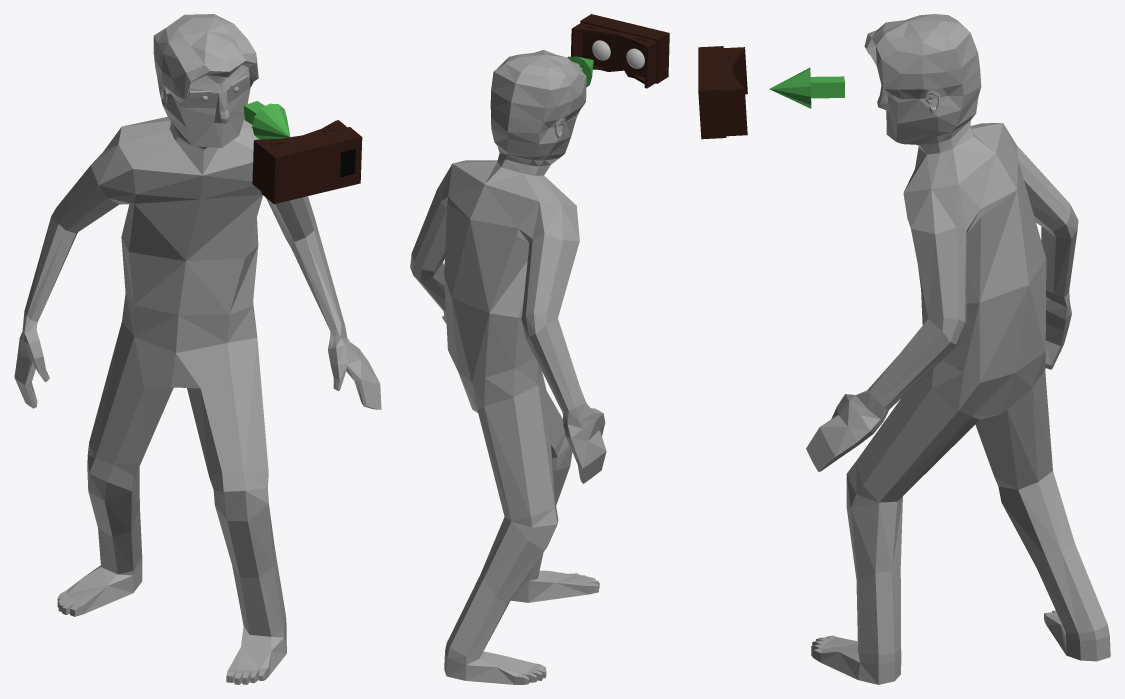
File: vr_tutorial_v3.obj
3 renders of one model, left to right at view 1: azimuth 30°, elevation 25°; view 2: azimuth 150°, elevation 25°; view 3: azimuth 270°, elevation 25°, orthographic. The views are drawn at different scales.
Visible parts, largest first — view 1: Human_Mesh_Human_CylinderMesh.003, Google:pCube58, mesh546483871; view 2: Human_Mesh_Human_CylinderMesh.003, Google:pCube58; view 3: Human_Mesh_Human_CylinderMesh.003, Google:pCube58, mesh546483871, mesh1902505079.
Boxes of the visible parts, bbox=[...] form: Human_Mesh_Human_CylinderMesh.003: bbox=[14, 14, 381, 684]; Google:pCube58: bbox=[252, 120, 362, 203]; mesh546483871: bbox=[252, 103, 290, 139]; Human_Mesh_Human_CylinderMesh.003: bbox=[410, 50, 606, 684]; Google:pCube58: bbox=[571, 14, 669, 88]; Human_Mesh_Human_CylinderMesh.003: bbox=[806, 14, 1110, 684]; Google:pCube58: bbox=[698, 46, 747, 139]; mesh546483871: bbox=[769, 67, 811, 108]; mesh1902505079: bbox=[810, 76, 844, 98].
Size of the model in its own units: 3.63 by 8.2 by 4.83.
